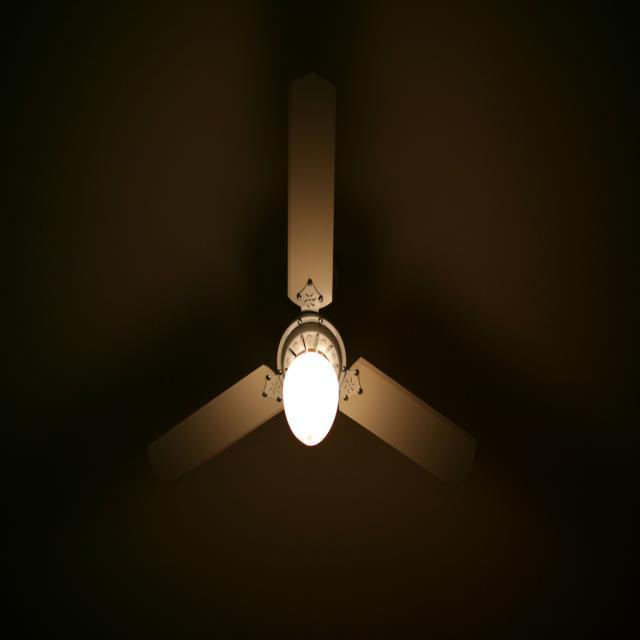fan_off: (145, 71, 475, 485)
